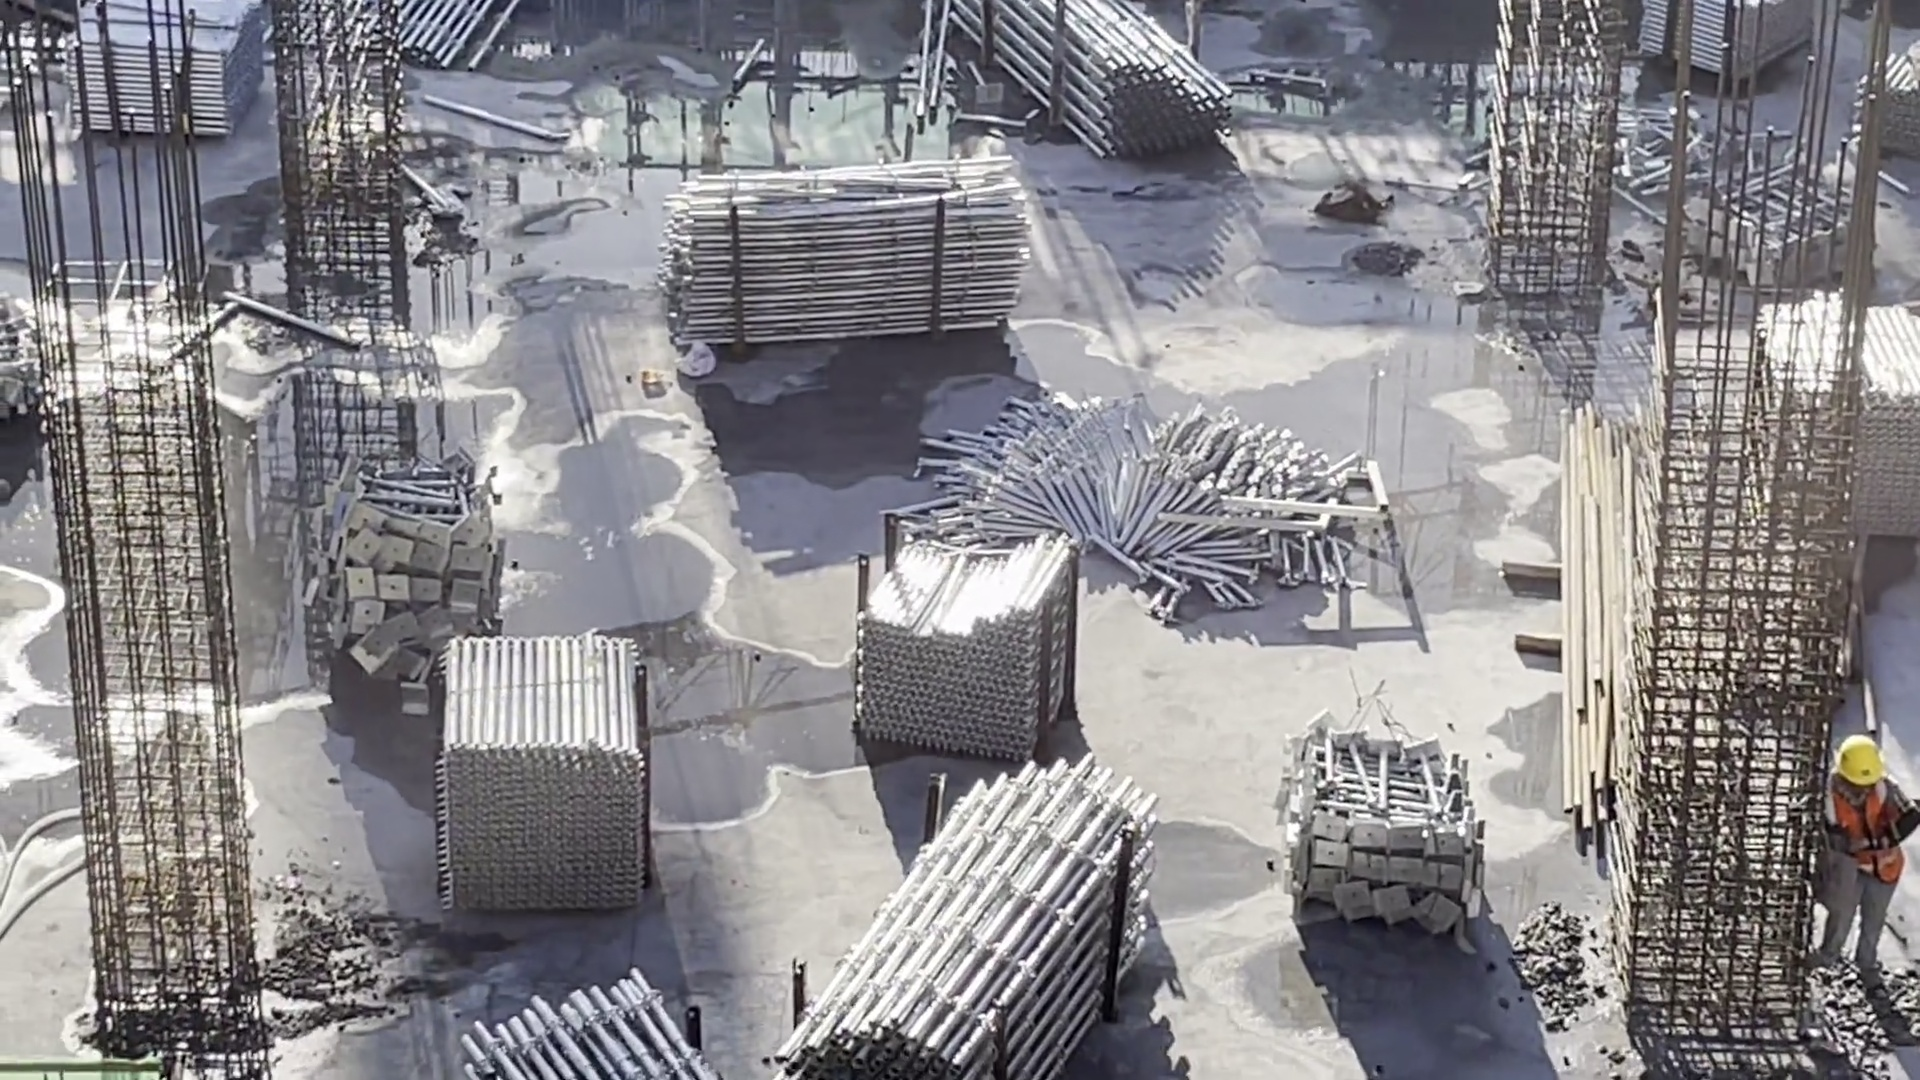helmet: (1832, 731, 1891, 785)
person: (1812, 730, 1908, 1006)
scaffold: (785, 774, 1141, 1080), (901, 399, 1378, 599), (426, 623, 694, 917), (829, 507, 1090, 757), (668, 168, 1038, 338), (299, 446, 518, 712), (1264, 712, 1485, 918), (1749, 285, 1920, 547), (960, 1, 1234, 164), (445, 943, 722, 1080), (1634, 104, 1853, 274), (85, 1, 294, 159), (1640, 1, 1802, 87), (1835, 49, 1920, 171)
vest: (1825, 775, 1905, 872)
